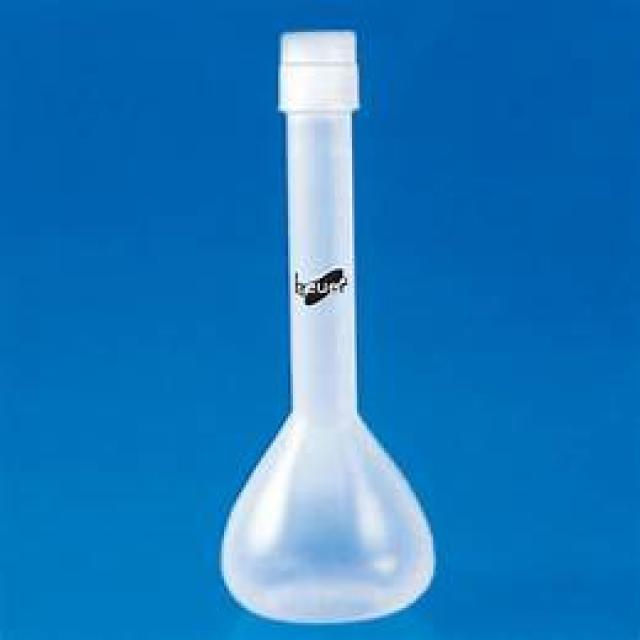Volumetric flask: (218, 25, 443, 628)
